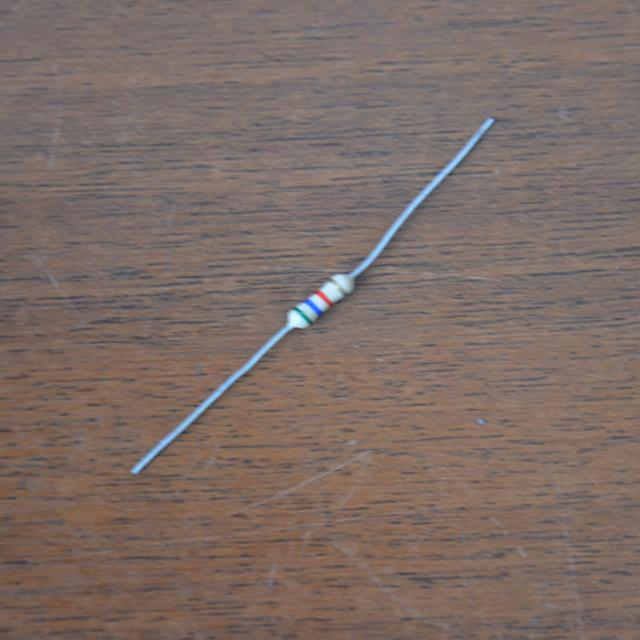blue: (304, 299, 321, 315)
gold: (328, 277, 347, 296)
green: (292, 306, 311, 324)
red: (315, 289, 331, 305)
resistor: (279, 265, 362, 336)
